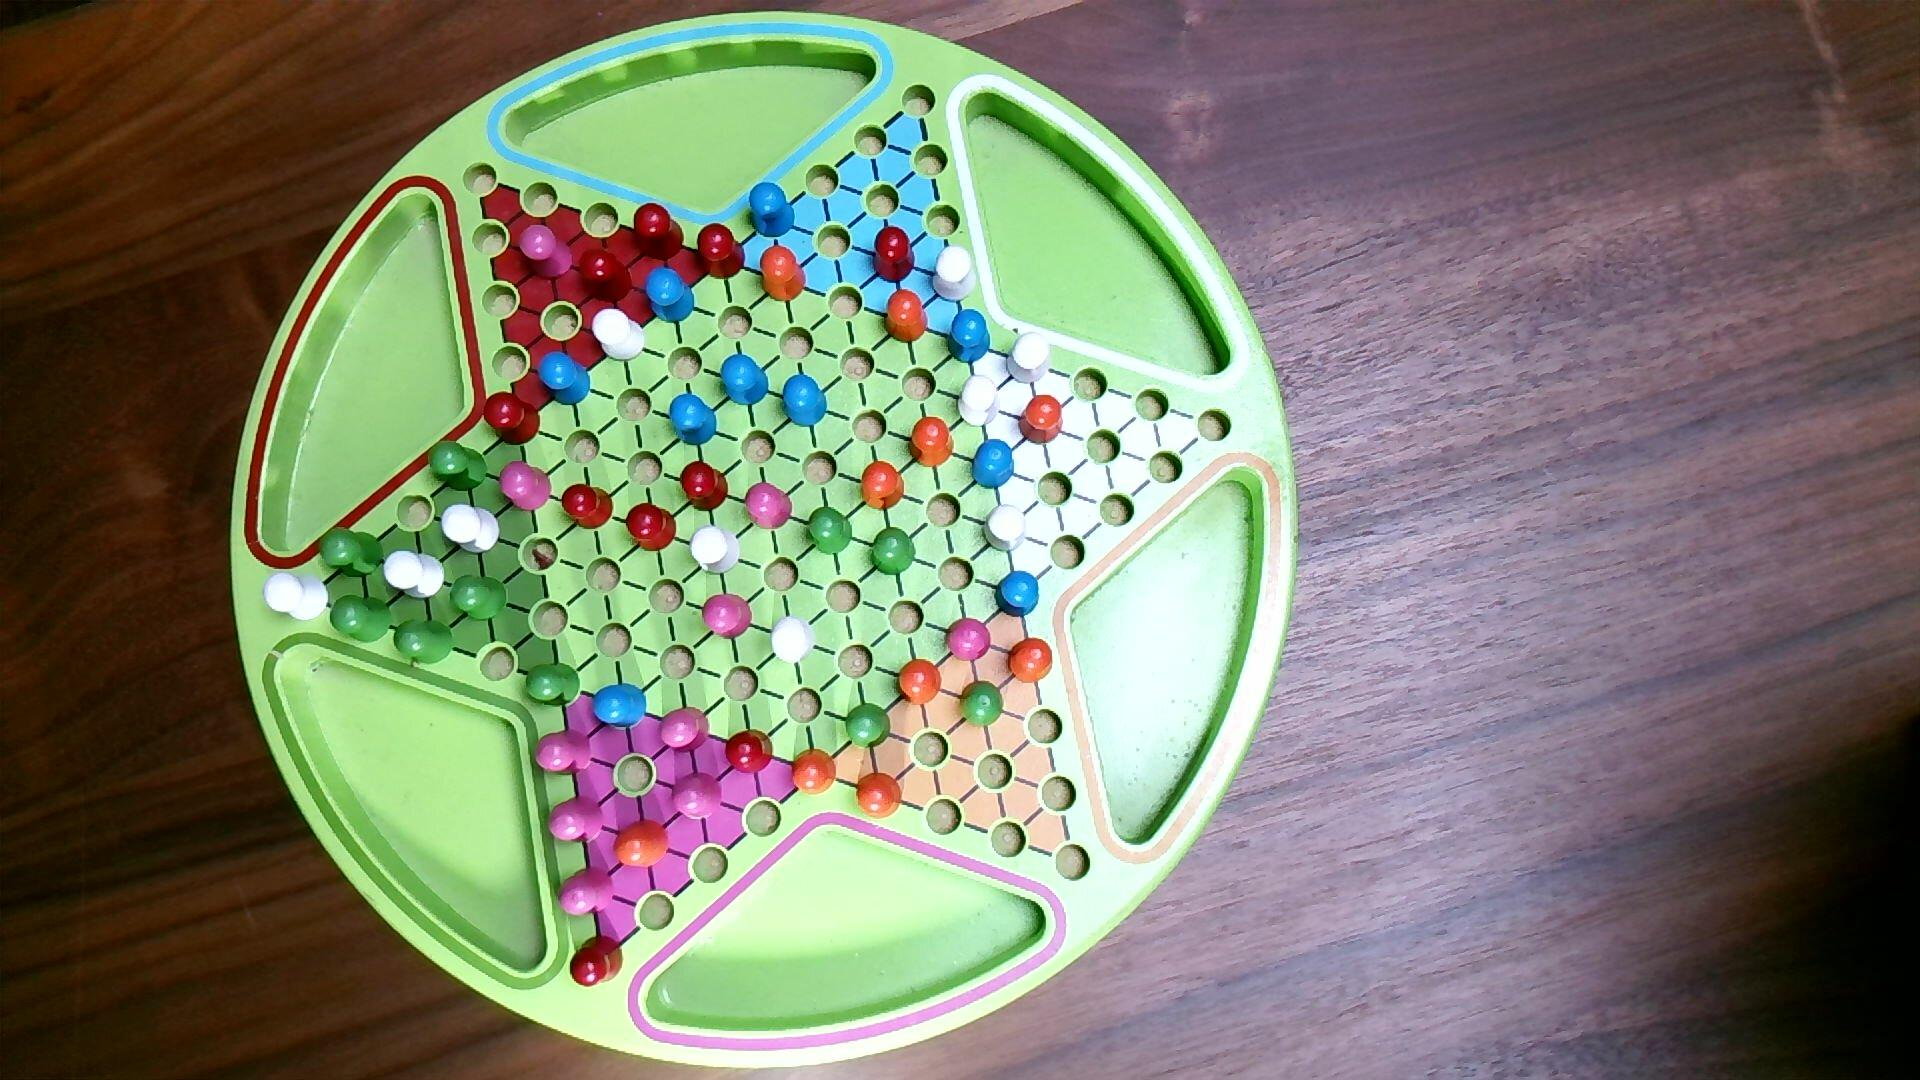B: (535, 349, 592, 407), (644, 266, 698, 326), (746, 181, 796, 240), (589, 683, 649, 733), (717, 353, 771, 407), (667, 393, 717, 448), (781, 373, 829, 430), (945, 309, 992, 365), (971, 438, 1017, 492), (994, 570, 1040, 620)
G: (316, 526, 386, 580), (426, 440, 489, 495), (328, 593, 394, 645), (393, 618, 455, 667), (450, 574, 510, 622), (525, 662, 582, 709), (804, 505, 855, 556), (957, 679, 1006, 731), (869, 526, 918, 578), (845, 702, 893, 752)
O: (612, 819, 671, 872), (758, 244, 808, 305), (858, 459, 907, 514), (1017, 393, 1065, 448), (884, 287, 930, 345), (907, 415, 956, 469), (895, 657, 944, 708), (855, 771, 905, 820), (790, 746, 837, 796), (1007, 637, 1055, 686)
R: (481, 390, 543, 448), (578, 247, 636, 305), (632, 202, 686, 262), (568, 934, 626, 989), (695, 222, 746, 282), (624, 501, 678, 555), (679, 460, 731, 514), (872, 225, 916, 286), (560, 483, 616, 531), (724, 727, 775, 777)
R2: (517, 223, 575, 282), (546, 794, 607, 847), (556, 865, 616, 918), (534, 727, 593, 778), (498, 460, 554, 514), (670, 770, 724, 822), (657, 705, 712, 756), (742, 481, 795, 533), (702, 592, 754, 642), (943, 616, 992, 665)
W: (262, 571, 331, 624), (381, 549, 447, 603), (439, 502, 502, 556), (589, 307, 647, 364), (688, 524, 742, 579), (931, 244, 978, 305), (1005, 330, 1054, 386), (956, 373, 1004, 430), (770, 615, 818, 667), (982, 502, 1029, 555)
